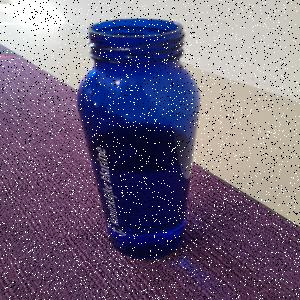Plastic-bottle: (77, 19, 203, 261)
